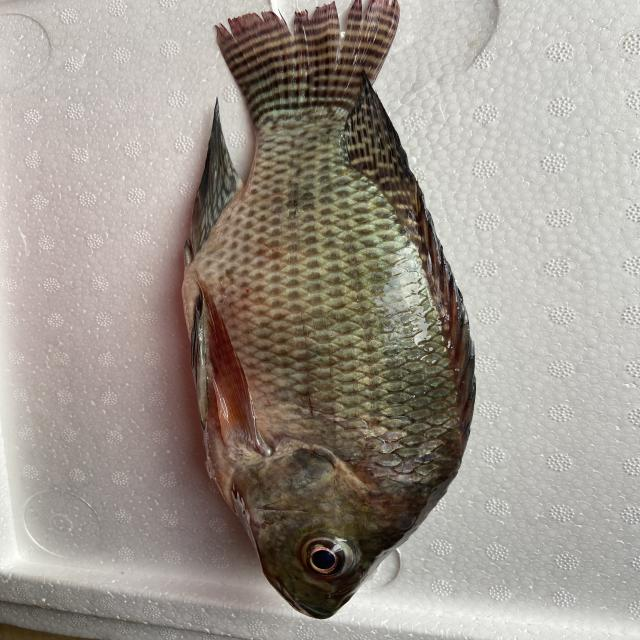Eye-6-: (296, 536, 354, 585)
Skin-6-: (194, 125, 475, 482)
Tilapia-VF-11-12-: (161, 0, 489, 640)
